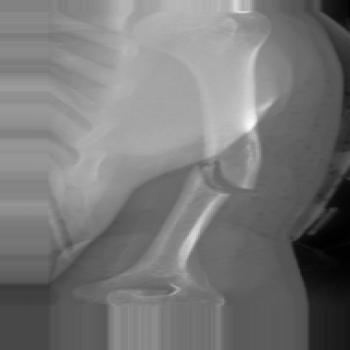Fracture: (181, 155, 262, 199)
